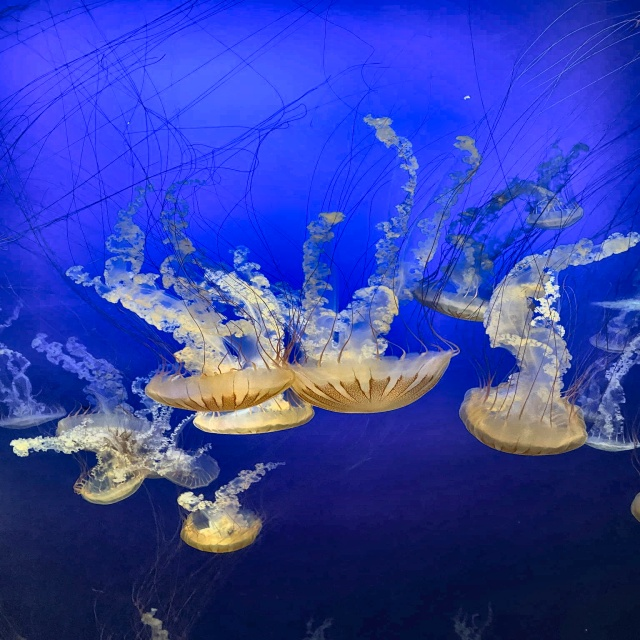jellyfish: (283, 349, 456, 414), (459, 386, 588, 457), (143, 367, 292, 410), (194, 385, 315, 435), (179, 506, 260, 552), (79, 454, 149, 505), (411, 289, 509, 322), (58, 417, 162, 448), (151, 450, 221, 488), (0, 410, 69, 431), (588, 328, 636, 354), (525, 207, 581, 229), (581, 434, 635, 452)
